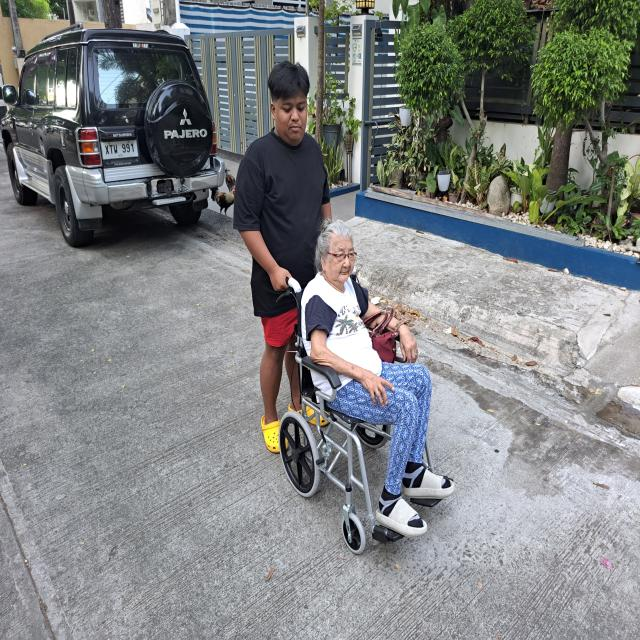wheelchairs: (280, 262, 450, 568)
